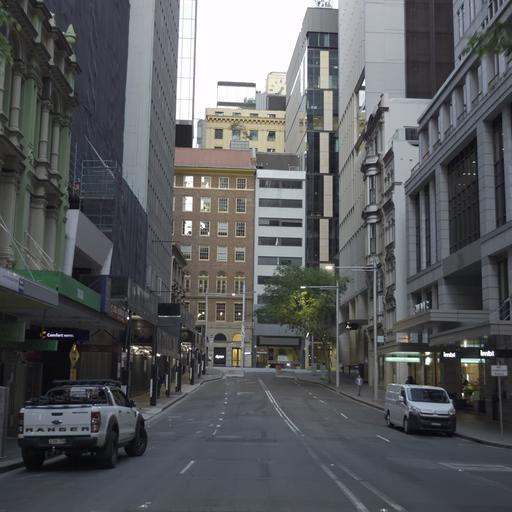Street light: (324, 262, 380, 400), (299, 283, 340, 389), (231, 290, 245, 367)
